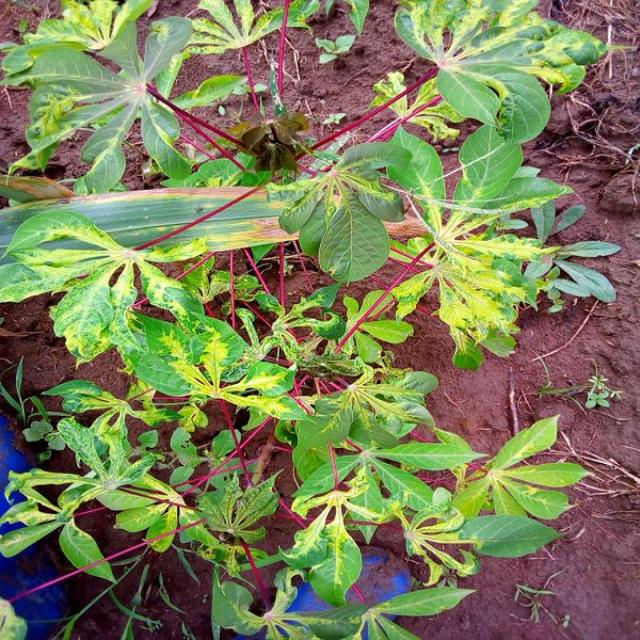cassava leaf: (0, 1, 618, 637)
